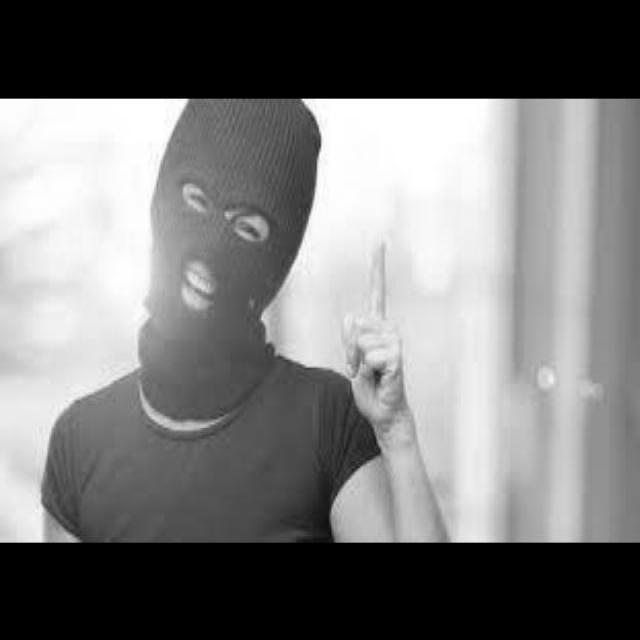6_pasamontana: (140, 98, 322, 419)
